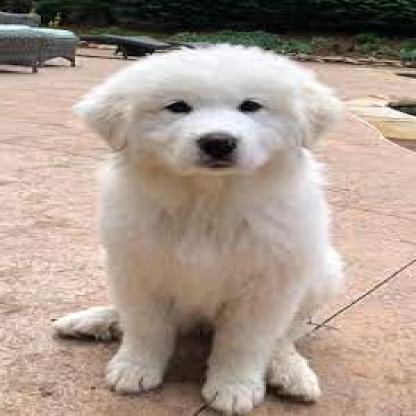pyrenean mountain dog: (44, 41, 366, 416)
